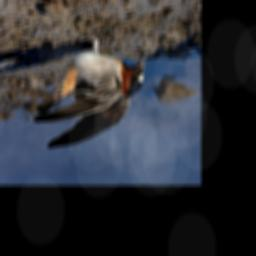Swallow: (33, 25, 145, 149)
